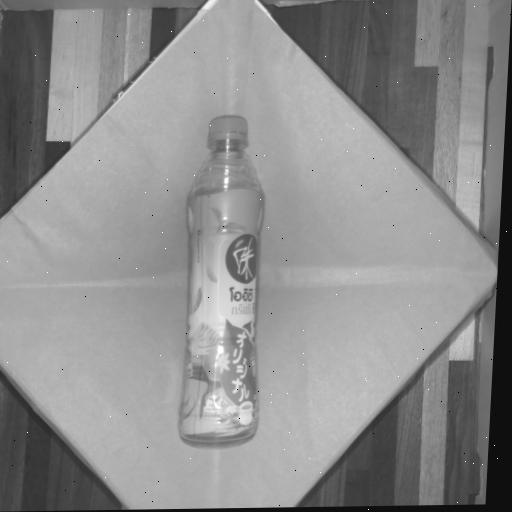bottle: (180, 116, 263, 441)
